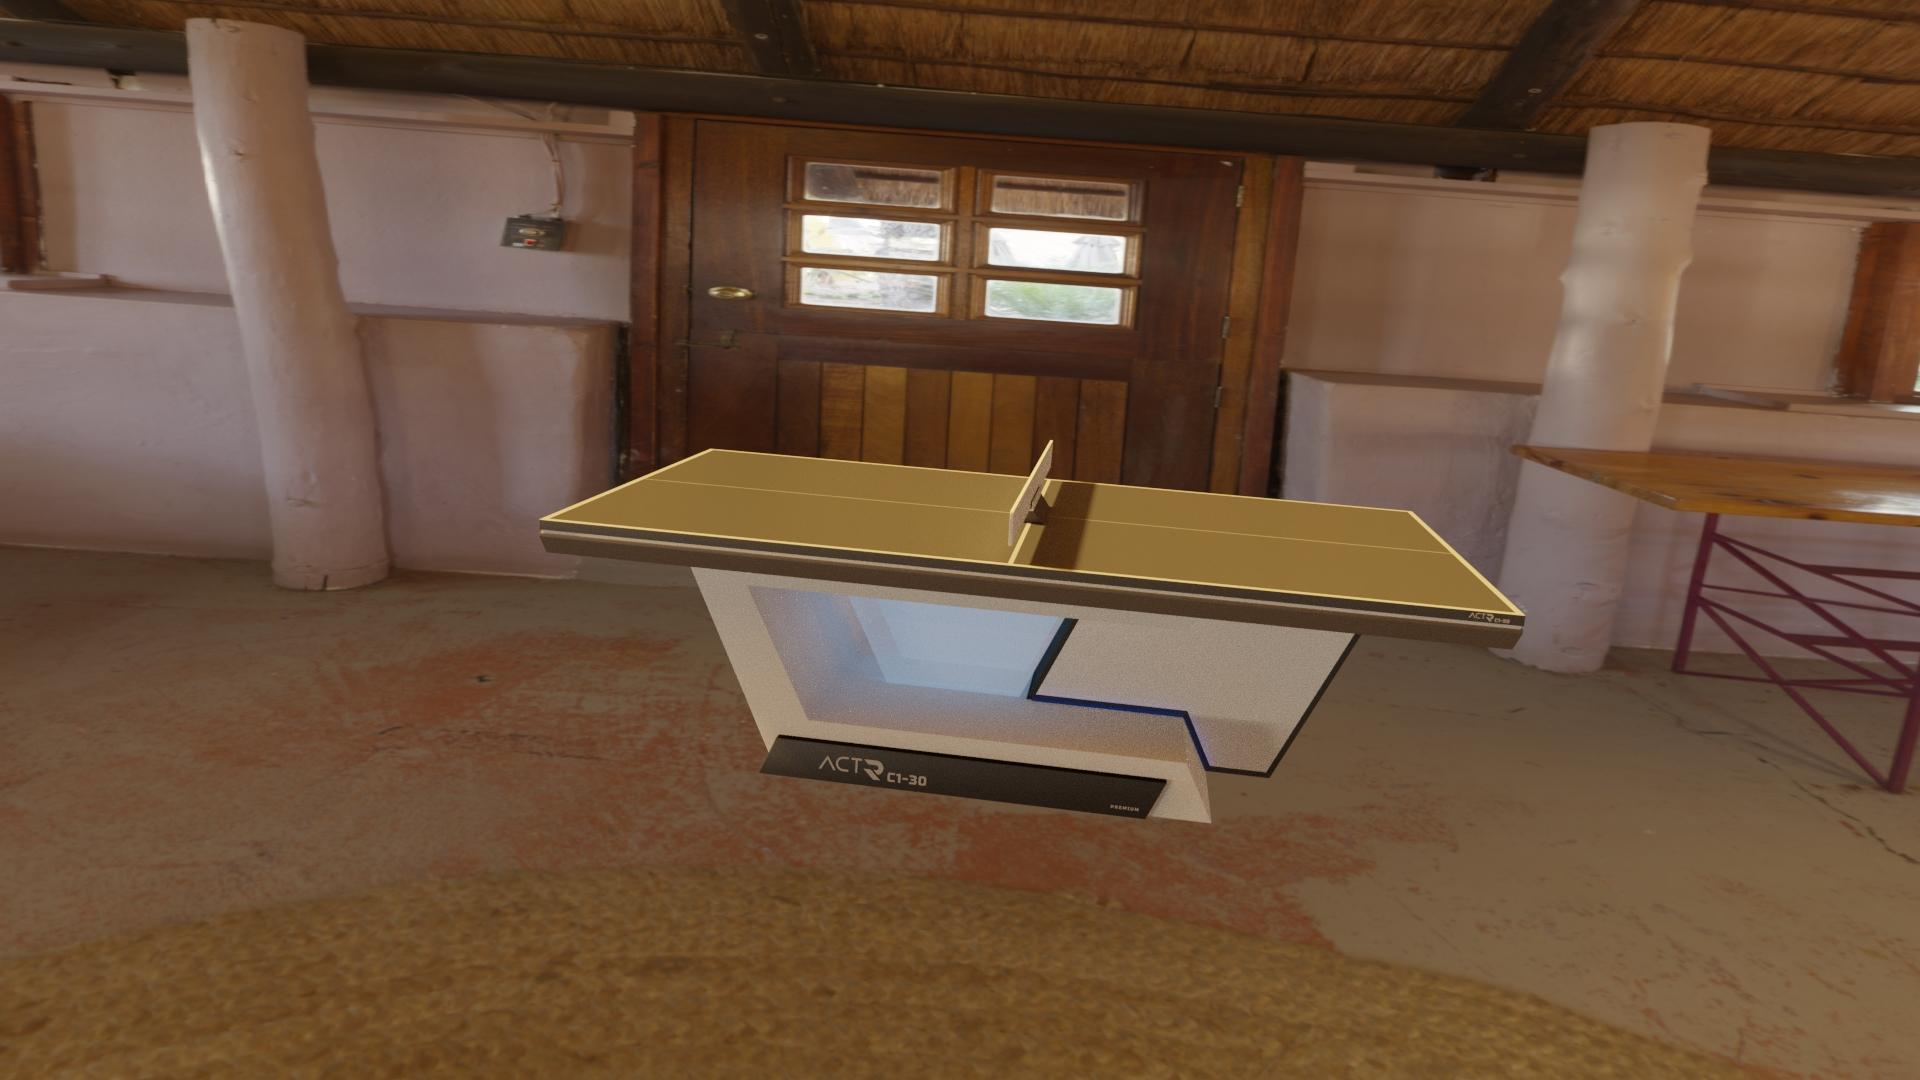table: (549, 450, 1516, 613)
